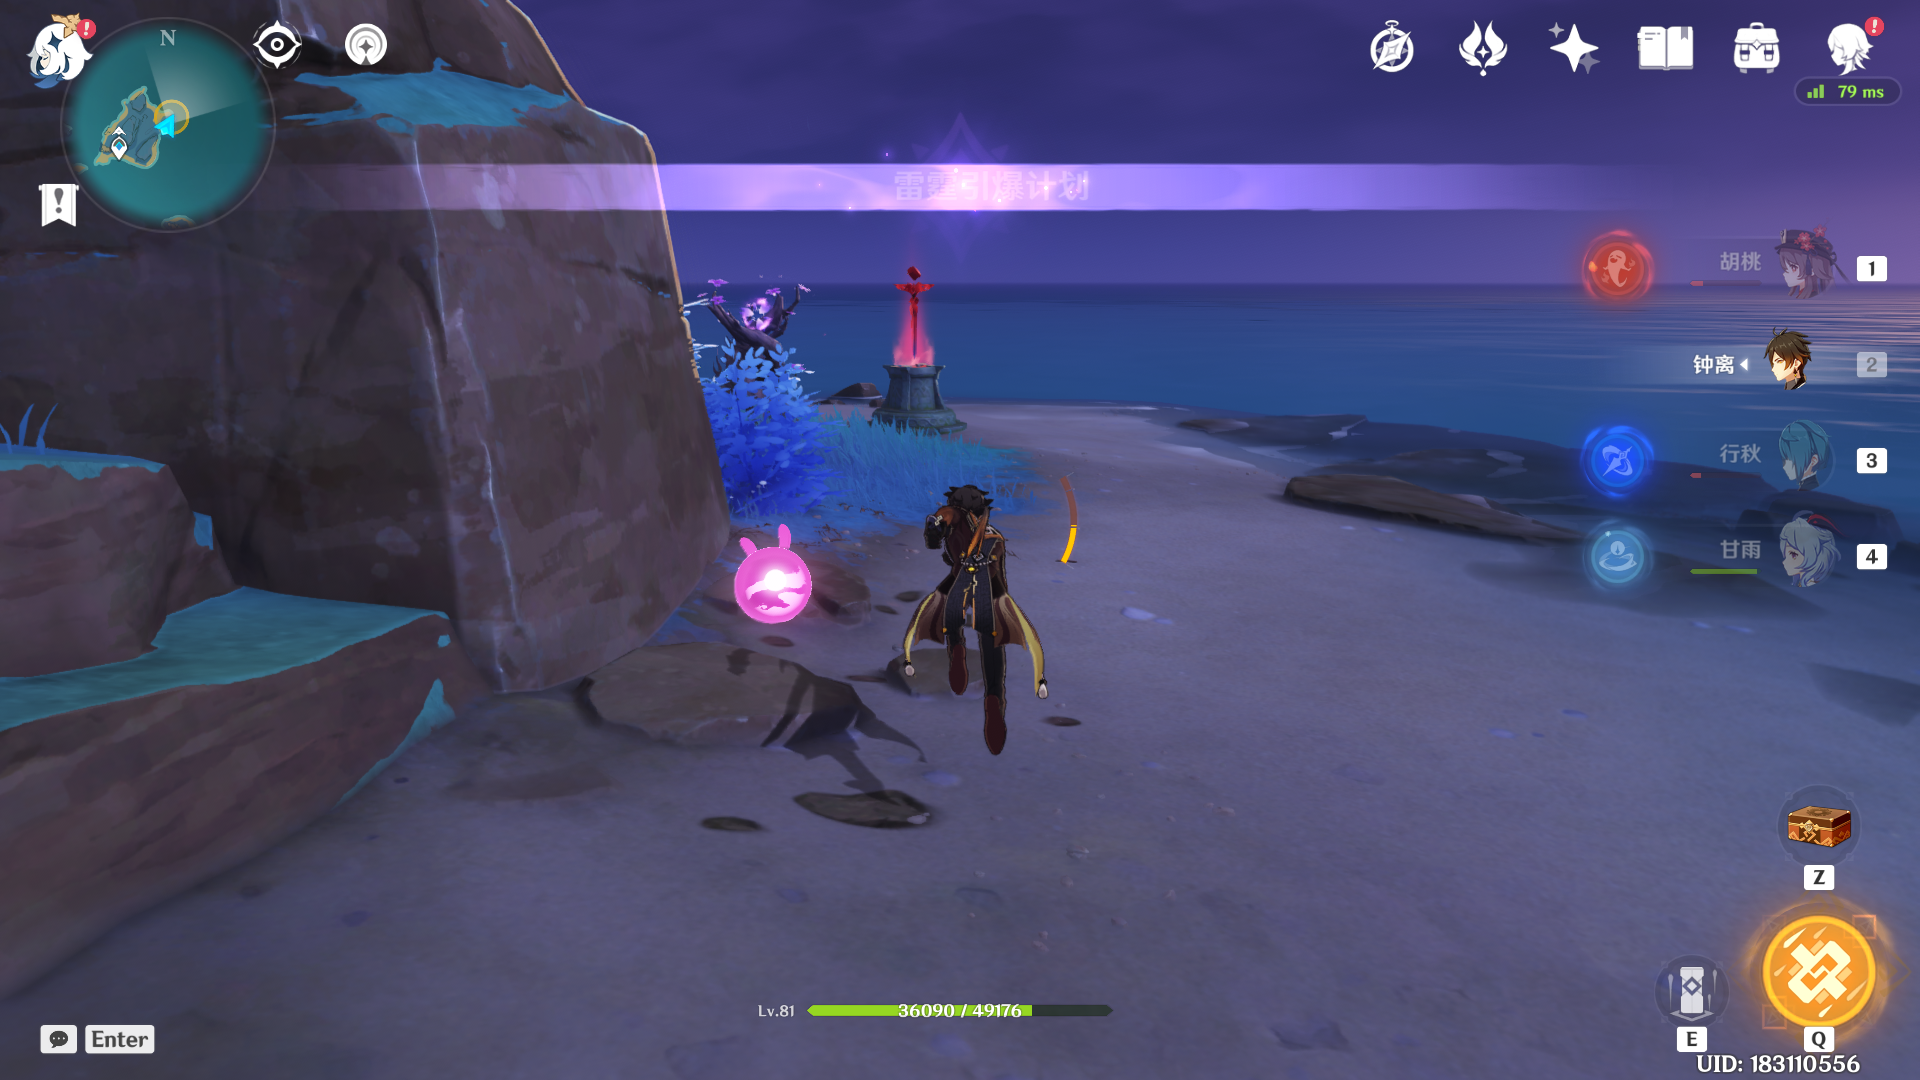character: (845, 435, 1120, 810)
